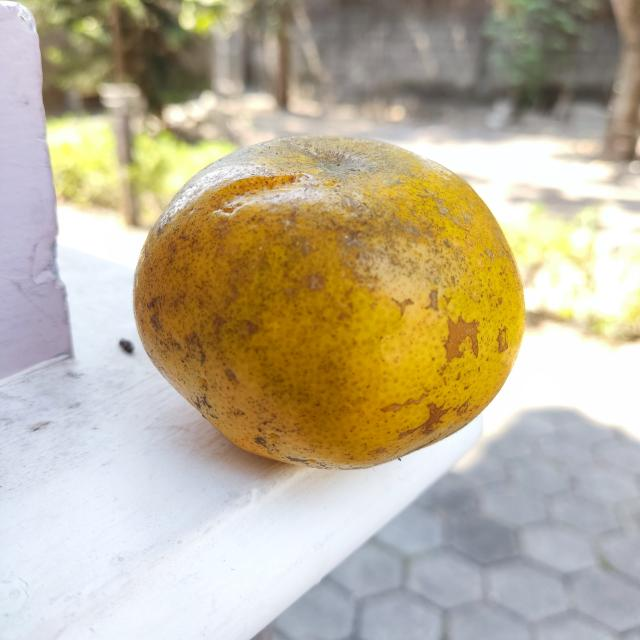orange: (130, 132, 528, 472)
